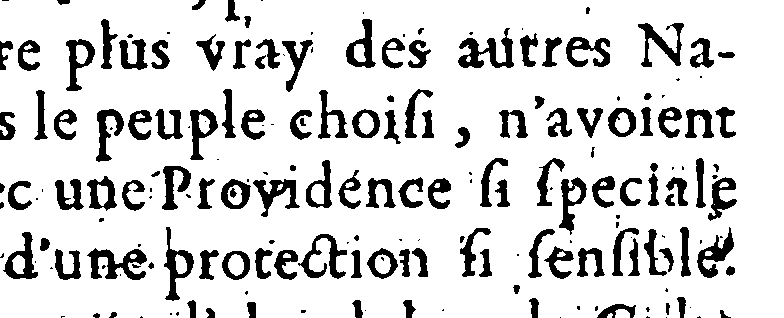o: (219, 175, 253, 215), (219, 247, 254, 285), (352, 101, 383, 143), (611, 104, 639, 144)
